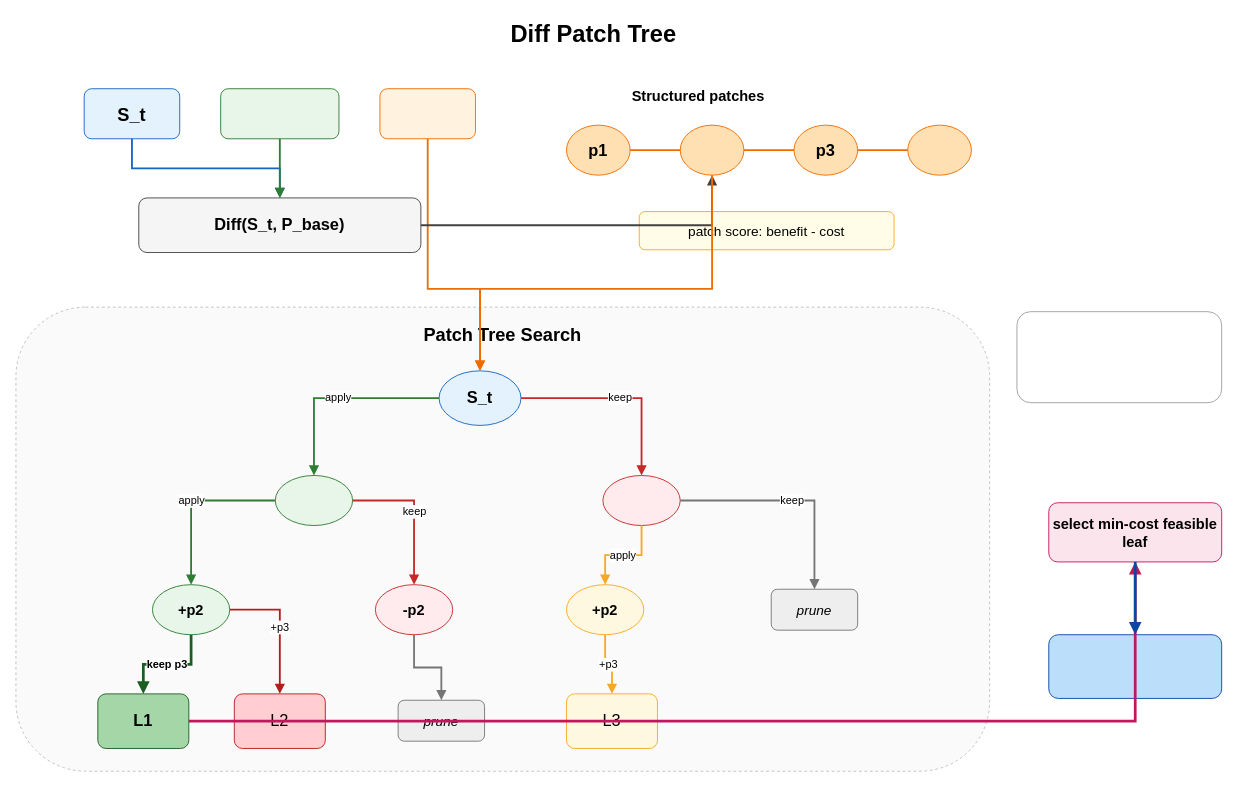
Some shapes in this 1238 by 787 pixel diagram are drawn without their labels. Each missing label, with the box of its shape:
+p1: (274, 475, 353, 526)
+p: apply patch -p: keep current state L: candidate adjusted plan: (1016, 311, 1222, 403)
-p1: (602, 475, 680, 526)
B_t: (379, 88, 475, 139)
p2: (679, 124, 744, 175)
p4: (907, 124, 971, 175)
P_adjusted: (1048, 634, 1222, 698)
P_base: (220, 88, 339, 139)
